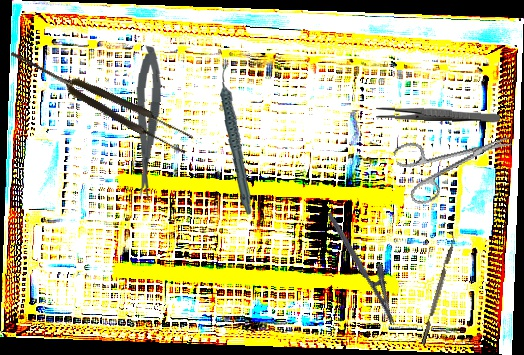Chopper: (415, 231, 459, 345)
Dressing Forceps: (375, 105, 501, 124)
Handpiece: (213, 63, 261, 216)
Iris Scissors: (392, 112, 521, 209)
Micro Scissor: (128, 45, 165, 202)
Needle Holder: (326, 202, 411, 327)
Tissue Forceps: (6, 41, 195, 157)
